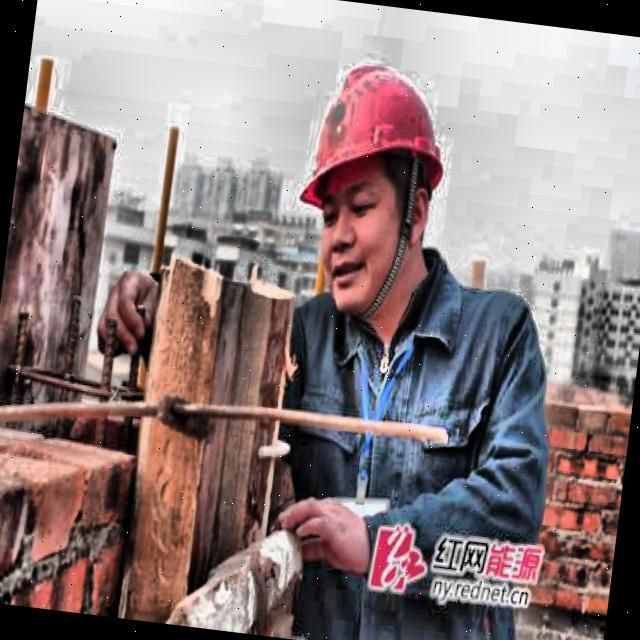helmet: (268, 29, 468, 324)
